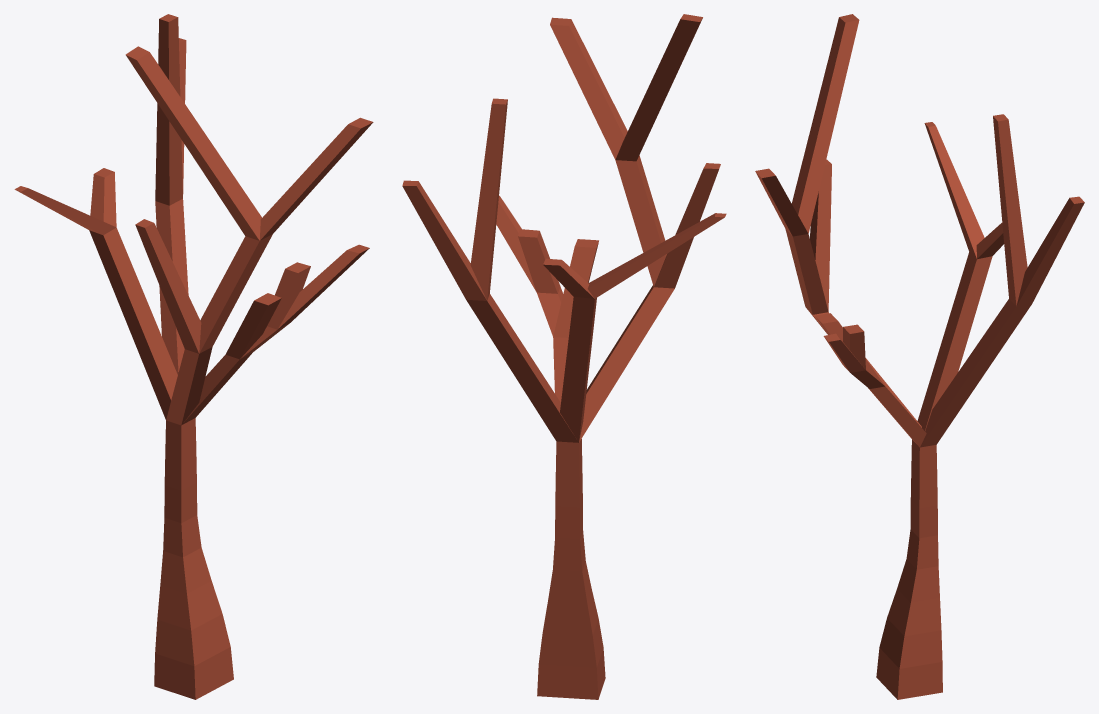
Rendered from Tree3.fbx.
3 views of the same model, side by side, from view 1: azimuth 30°, elevation 25°; view 2: azimuth 150°, elevation 25°; view 3: azimuth 270°, elevation 25° (orthographic). The views are drawn at different scales.
Visible parts, largest first — view 1: Plane.002; view 2: Plane.002; view 3: Plane.002.
Boxes of the visible parts, bbox=[...] form: Plane.002: bbox=[14, 14, 373, 699]; Plane.002: bbox=[402, 14, 726, 699]; Plane.002: bbox=[755, 14, 1084, 699].
Size of the model in its own units: 169 by 365 by 174.
